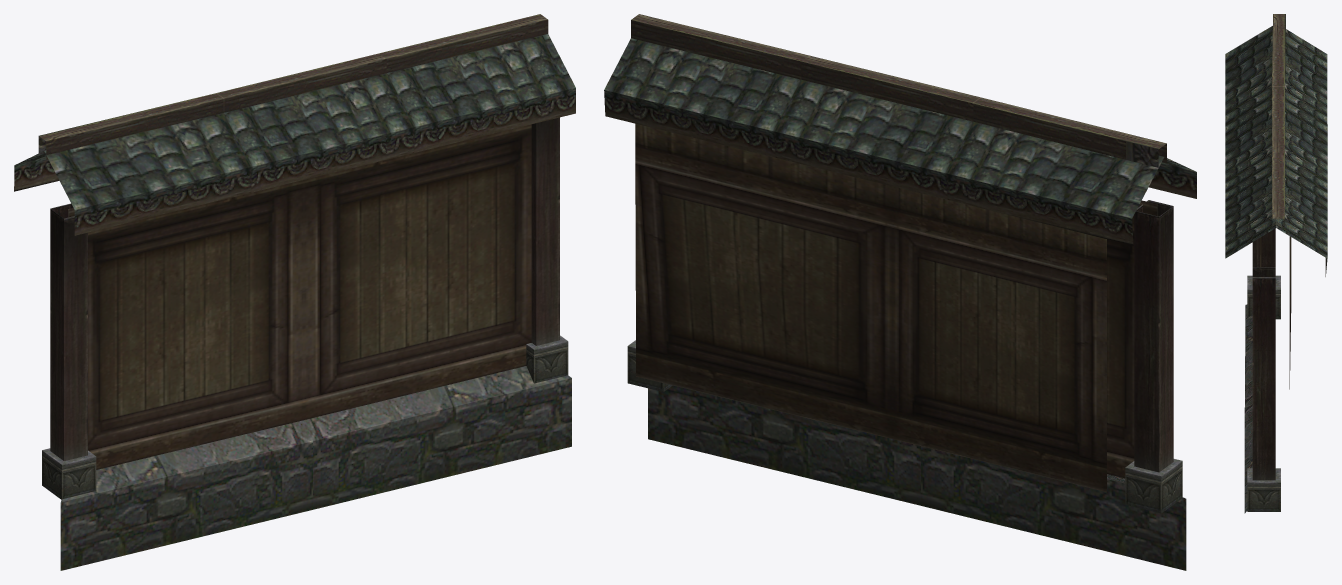
File: yw_juxianzhuang_pingjieqiang02.FBX
3 renders of one model, left to right at view 1: azimuth 30°, elevation 25°; view 2: azimuth 150°, elevation 25°; view 3: azimuth 270°, elevation 25°, orthographic. The views are drawn at different scales.
Visible parts, largest first — view 1: yw_juxianzhuang_pingjieqiang02; view 2: yw_juxianzhuang_pingjieqiang02; view 3: yw_juxianzhuang_pingjieqiang02.
Boxes of the visible parts, <box> form: yw_juxianzhuang_pingjieqiang02: <box>14,14,575,570</box>; yw_juxianzhuang_pingjieqiang02: <box>604,14,1196,570</box>; yw_juxianzhuang_pingjieqiang02: <box>1225,14,1327,513</box>.
Size of the model in its own units: 456 by 356 by 94.18.
Materials: 1 (1 with a texture image).
